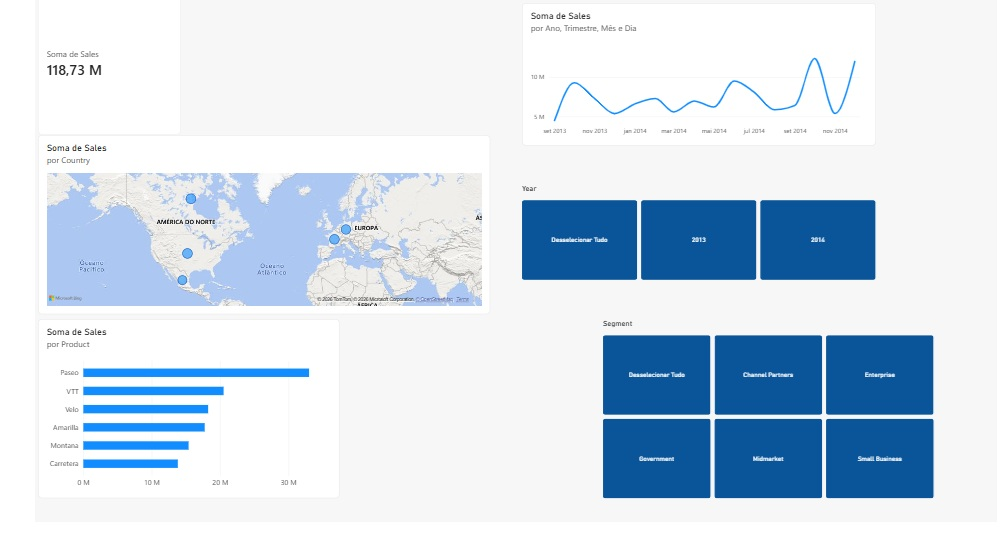

What the dashboard file says about the page in this screenshot:
{"tool":"powerbi","page":{"name":"Vendas","canvas":[1920,1080],"ordinal":0},"visuals":[{"type":"cardVisual","fields":{"Data":["Sum(financials. Sales)"]},"box":[10,0,280,280],"z":0},{"type":"map","fields":{"Category":["financials.Country"],"Size":["Sum(financials. Sales)"]},"box":[9,280.4,888.2,352.1],"z":1},{"type":"barChart","fields":{"Category":["financials.Product"],"Y":["Sum(financials. Sales)"]},"box":[9,642,592,352],"z":2},{"type":"lineChart","fields":{"Category":["financials.Date.Variação.Hierarquia de Datas.Ano","financials.Date.Variação.Hierarquia de Datas.Trimestre","financials.Date.Variação.Hierarquia de Datas.Mês","financials.Date.Variação.Hierarquia de Datas.Dia"],"Y":["Sum(financials. Sales)"]},"box":[960,22.4,695.3,280.4],"z":3},{"type":"advancedSlicerVisual","fields":{"Values":["financials.Year"]},"box":[960,378,695.4,189],"z":4},{"type":"advancedSlicerVisual","fields":{"Values":["financials.Segment"]},"box":[1118.7,642.5,650.1,352.8],"z":5}]}

Visuals, with their boxes on the page's 1920x1080 design canvas (x1, y1, x2, y2). These are canvas units, not pixel positions in the 1001x540 screenshot, which may show the page scaled, cropped or inside an application window:
cardVisual - Sum(financials. Sales): (10,0,290,280)
map - financials.Country x Sum(financials. Sales): (9,280,897,632)
barChart - financials.Product x Sum(financials. Sales): (9,642,601,994)
lineChart - financials.Date.Variação.Hierarquia de Datas.Ano x financials.Date.Variação.Hierarquia de Datas.Trimestre: (960,22,1655,303)
advancedSlicerVisual - financials.Year: (960,378,1655,567)
advancedSlicerVisual - financials.Segment: (1119,642,1769,995)
